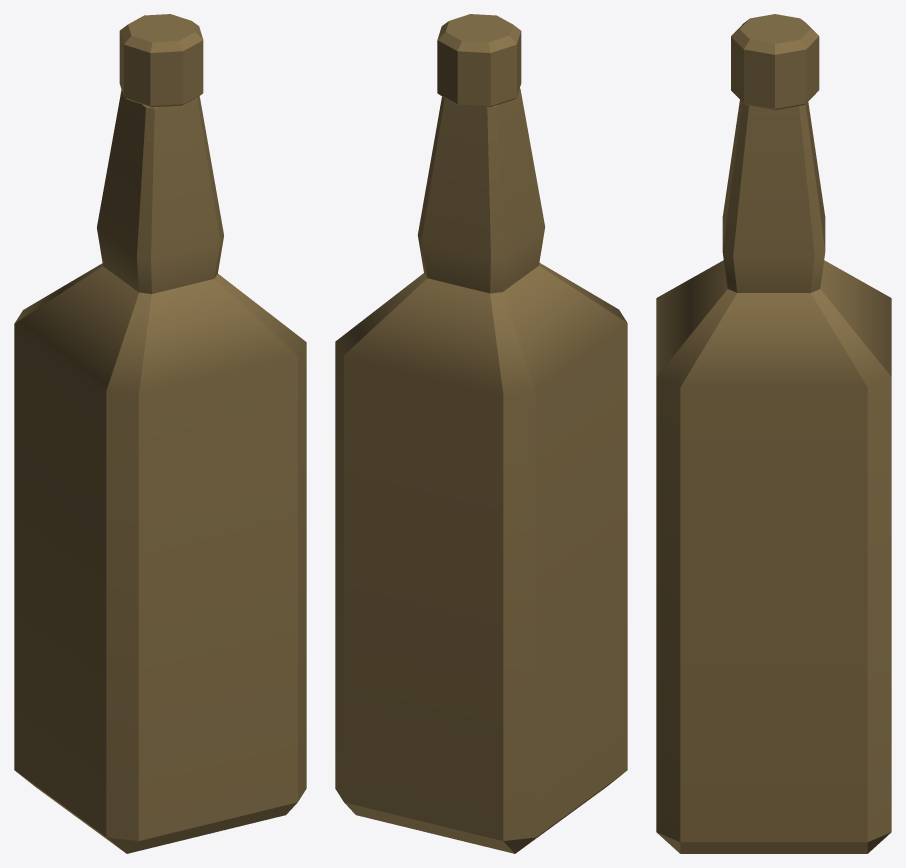
Rendered from bottle 4.fbx.
The picture shows the model from 3 angles, left to right: view 1: azimuth 30°, elevation 25°; view 2: azimuth 150°, elevation 25°; view 3: azimuth 270°, elevation 25°; orthographic projection.
Parts seen in each view (by area): view 1: pCube65; view 2: pCube65; view 3: pCube65.
Part boxes in pixels (x1,y1,x2,y2): pCube65: (14,14,306,853); pCube65: (335,14,627,853); pCube65: (656,14,891,853).
Size of the model in its own units: 0.1518 by 0.5591 by 0.1518.
